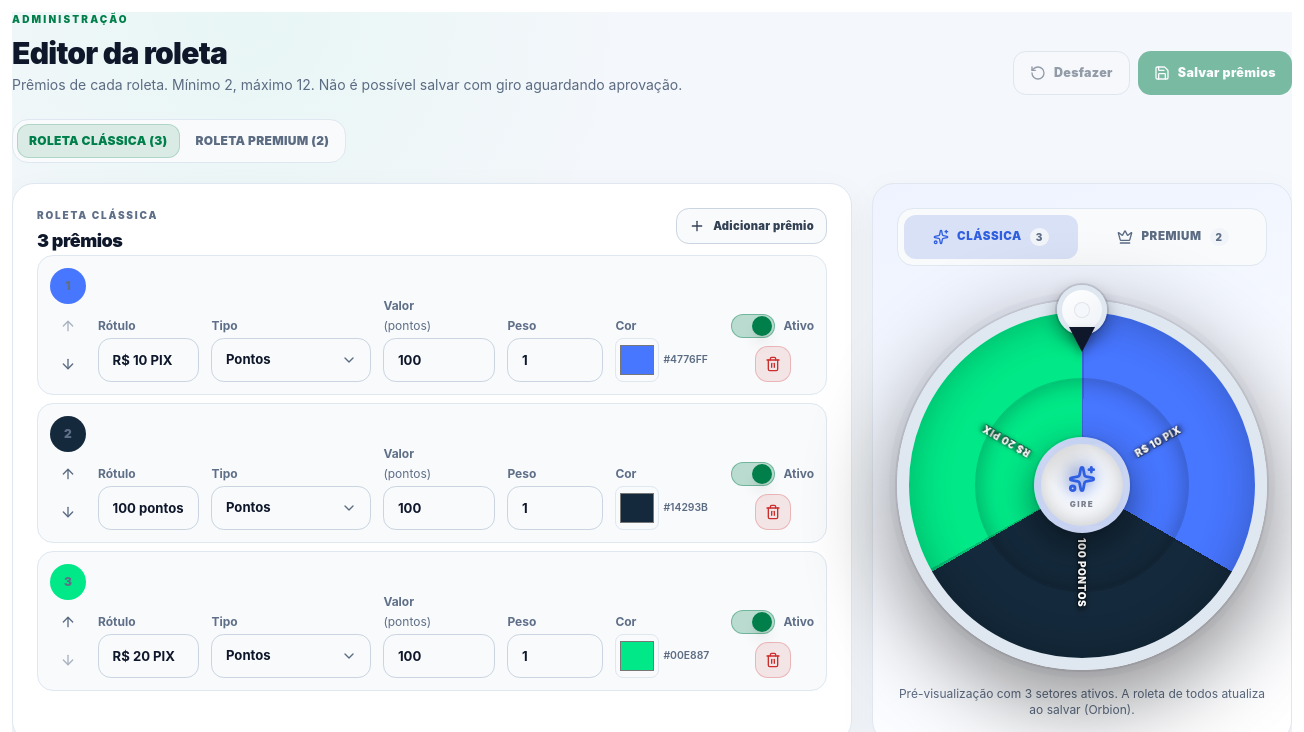
Test: PrizeEditor › salvar envia sort_order pela ordem da lista e re-renderiza com o retorno
The width and height of the screenshot is (1304, 732).
Expected: the heading "3 prêmios" is shown, [37,230,122,251]
Click the button named "Mover para baixo" in the row of "#4776FF".
click(68, 364)  # box [50,346,86,382]
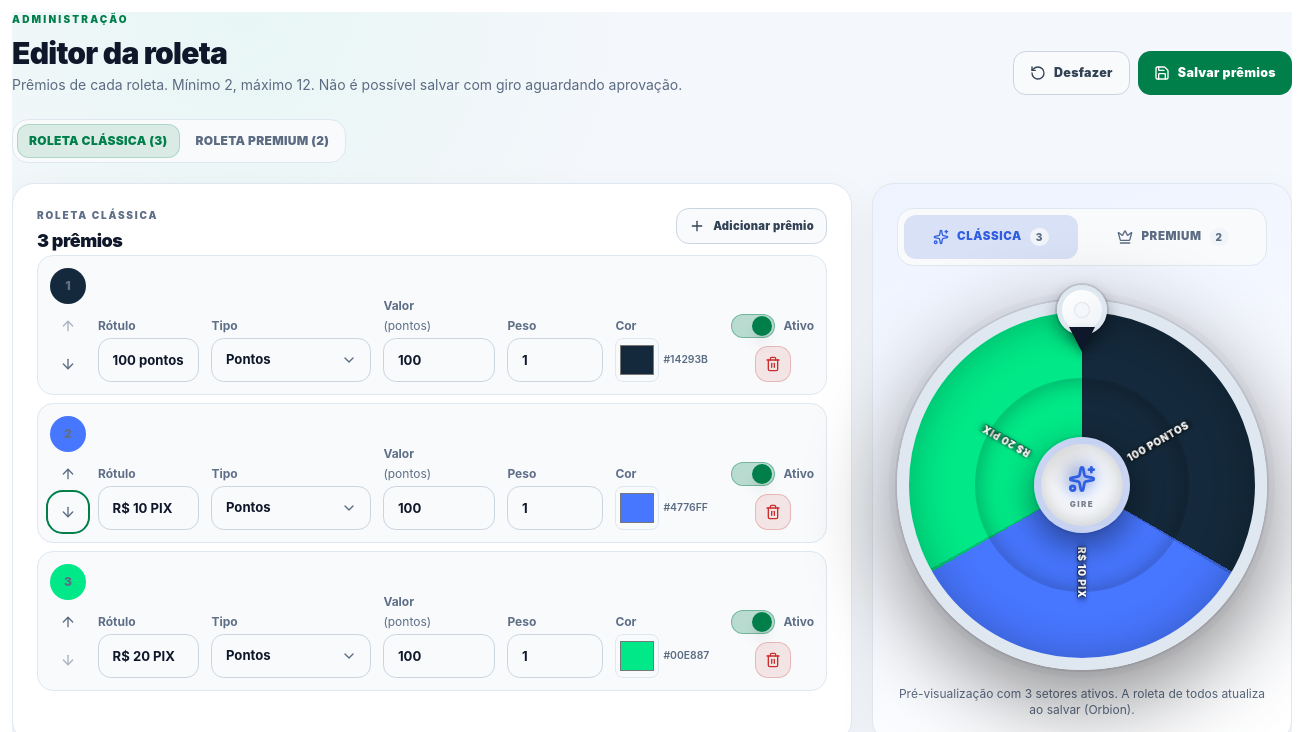
Click the button "Salvar prêmios".
click(1215, 73)  # box [1138,51,1292,95]
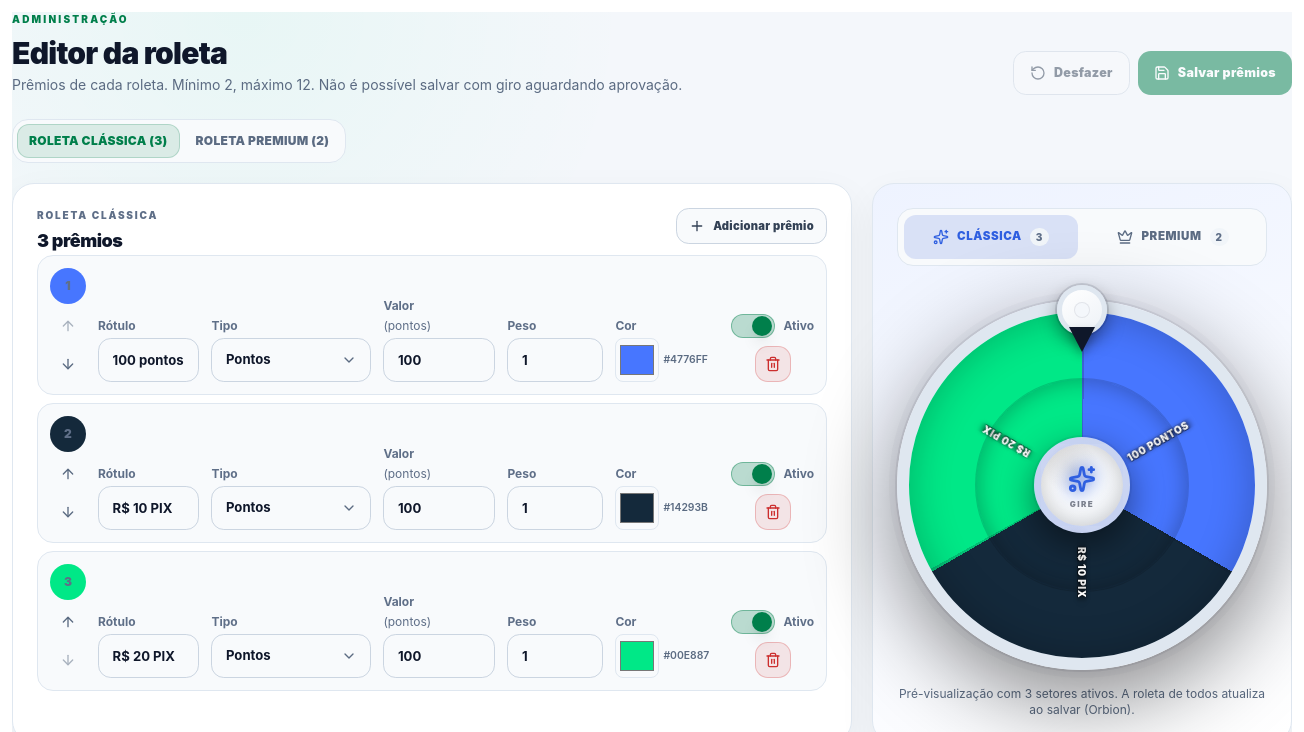
Expected: the heading "3 prêmios" is shown, [37,230,122,251]
Expected: the button "Salvar prêmios" is disabled, [1138,51,1292,95]
